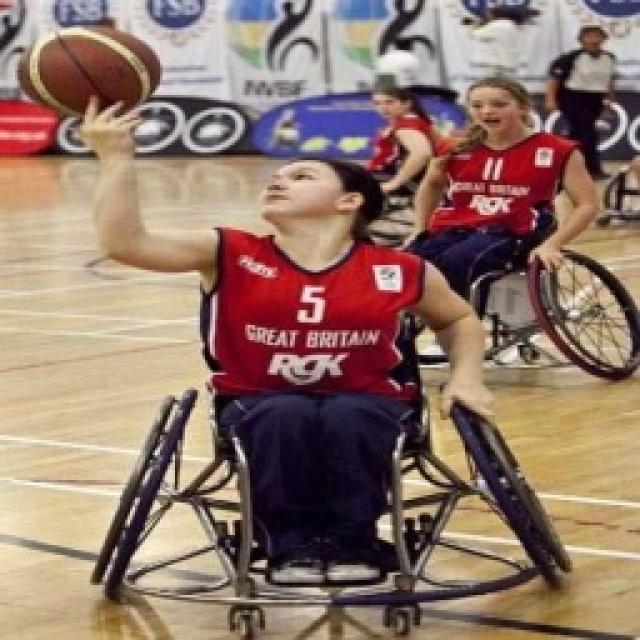rim: (12, 17, 168, 122)
